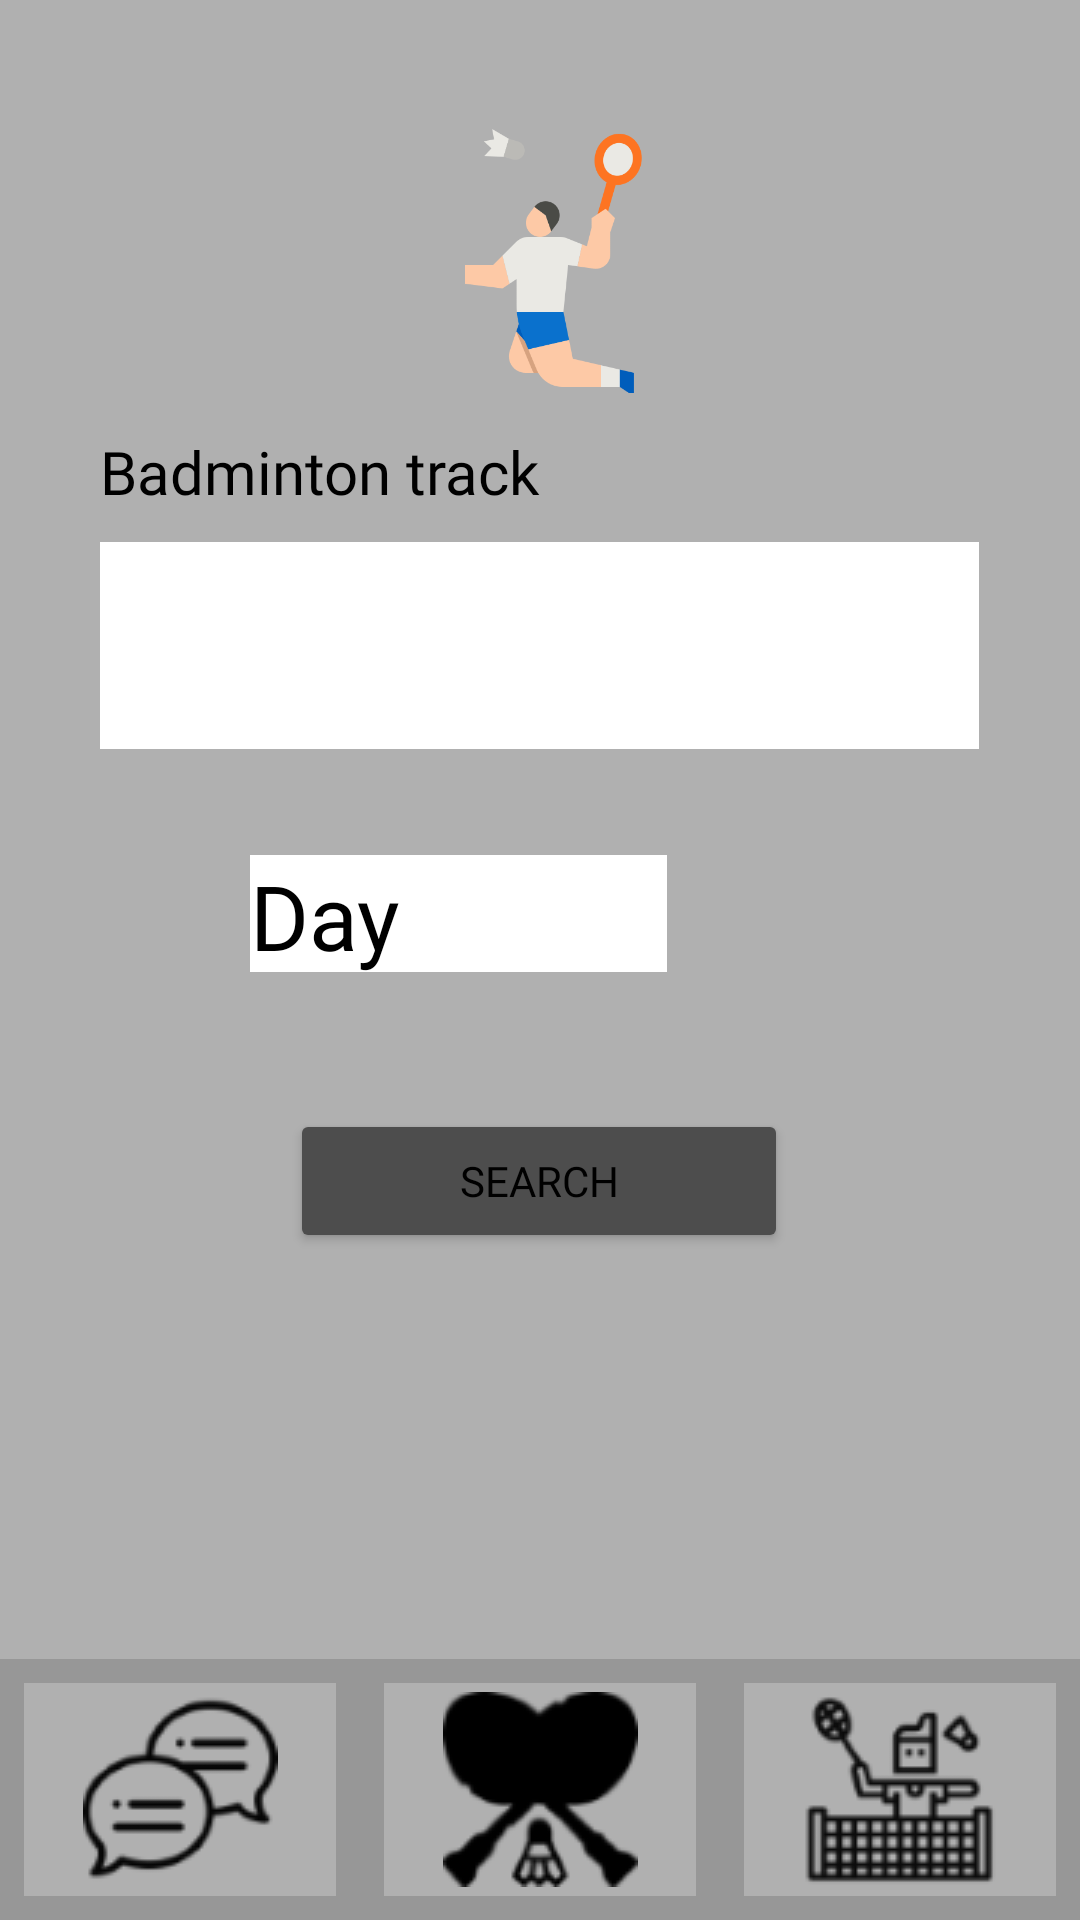

Where to tap for icons on this 1080w x 1920h app screen, as point (x, y):
Chat: point (180, 1789)
